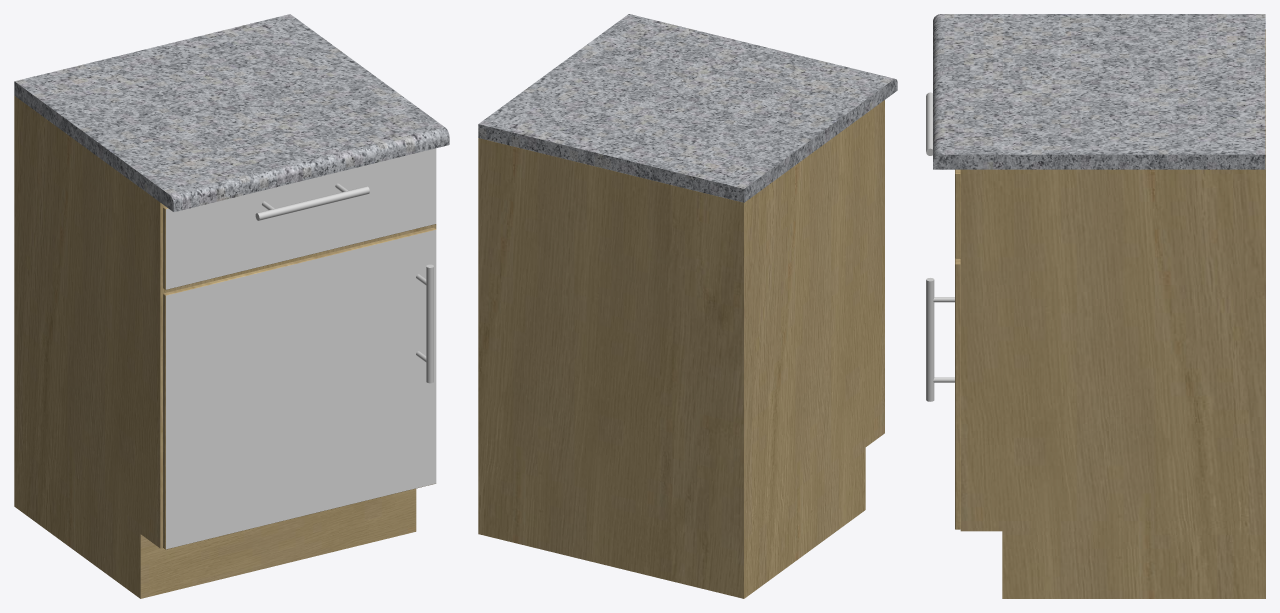
The model's file is lowerCabinet.glb.
3 views of the same model, side by side, from view 1: azimuth 30°, elevation 25°; view 2: azimuth 150°, elevation 25°; view 3: azimuth 270°, elevation 25° (orthographic). The views are drawn at different scales.
Parts seen in each view (by area): view 1: GC_100L.004_Cube.016; view 2: GC_100L.004_Cube.016; view 3: GC_100L.004_Cube.016.
Boxes of the visible parts, bbox=[...] form: GC_100L.004_Cube.016: bbox=[14, 14, 449, 598]; GC_100L.004_Cube.016: bbox=[478, 14, 897, 598]; GC_100L.004_Cube.016: bbox=[926, 14, 1265, 598].
Bounding box in the file's own units: 0.6 × 0.8841 × 0.6126.
7 materials, 5 textured.
